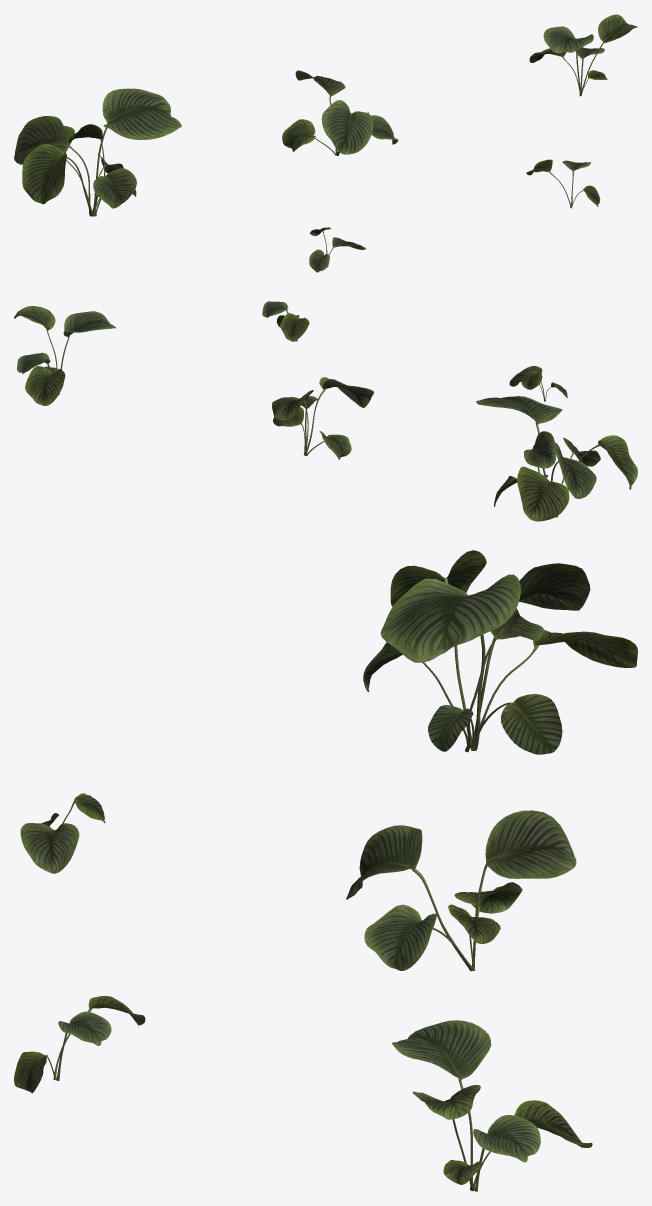
Rendered from calathea_orbifolia_01.glb.
3 views of the same model, one above another, from view 1: azimuth 30°, elevation 25°; view 2: azimuth 150°, elevation 25°; view 3: azimuth 270°, elevation 25° (orthographic). The views are drawn at different scales.
Visible parts, largest first — view 1: calathea_orbifolia_01_a, calathea_orbifolia_01_b, calathea_orbifolia_01_c, calathea_orbifolia_01_e, calathea_orbifolia_01_d; view 2: calathea_orbifolia_01_a, calathea_orbifolia_01_c, calathea_orbifolia_01_b, calathea_orbifolia_01_e, calathea_orbifolia_01_d; view 3: calathea_orbifolia_01_a, calathea_orbifolia_01_b, calathea_orbifolia_01_c, calathea_orbifolia_01_e, calathea_orbifolia_01_d.
Boxes of the visible parts, x1,y1,x2,y2 form: calathea_orbifolia_01_a: (14, 88, 181, 216); calathea_orbifolia_01_b: (282, 70, 398, 155); calathea_orbifolia_01_c: (529, 14, 637, 96); calathea_orbifolia_01_e: (526, 159, 600, 208); calathea_orbifolia_01_d: (309, 227, 366, 272); calathea_orbifolia_01_a: (476, 396, 637, 521); calathea_orbifolia_01_c: (14, 306, 115, 405); calathea_orbifolia_01_b: (271, 377, 374, 459); calathea_orbifolia_01_e: (262, 301, 309, 341); calathea_orbifolia_01_d: (509, 366, 567, 401); calathea_orbifolia_01_a: (363, 550, 637, 754); calathea_orbifolia_01_b: (346, 810, 576, 971); calathea_orbifolia_01_c: (392, 1020, 592, 1191); calathea_orbifolia_01_e: (14, 996, 145, 1093); calathea_orbifolia_01_d: (20, 793, 105, 873).
Size of the model in its own units: 2.49 by 0.4243 by 1.19.
Materials: 1 (1 with a texture image).
